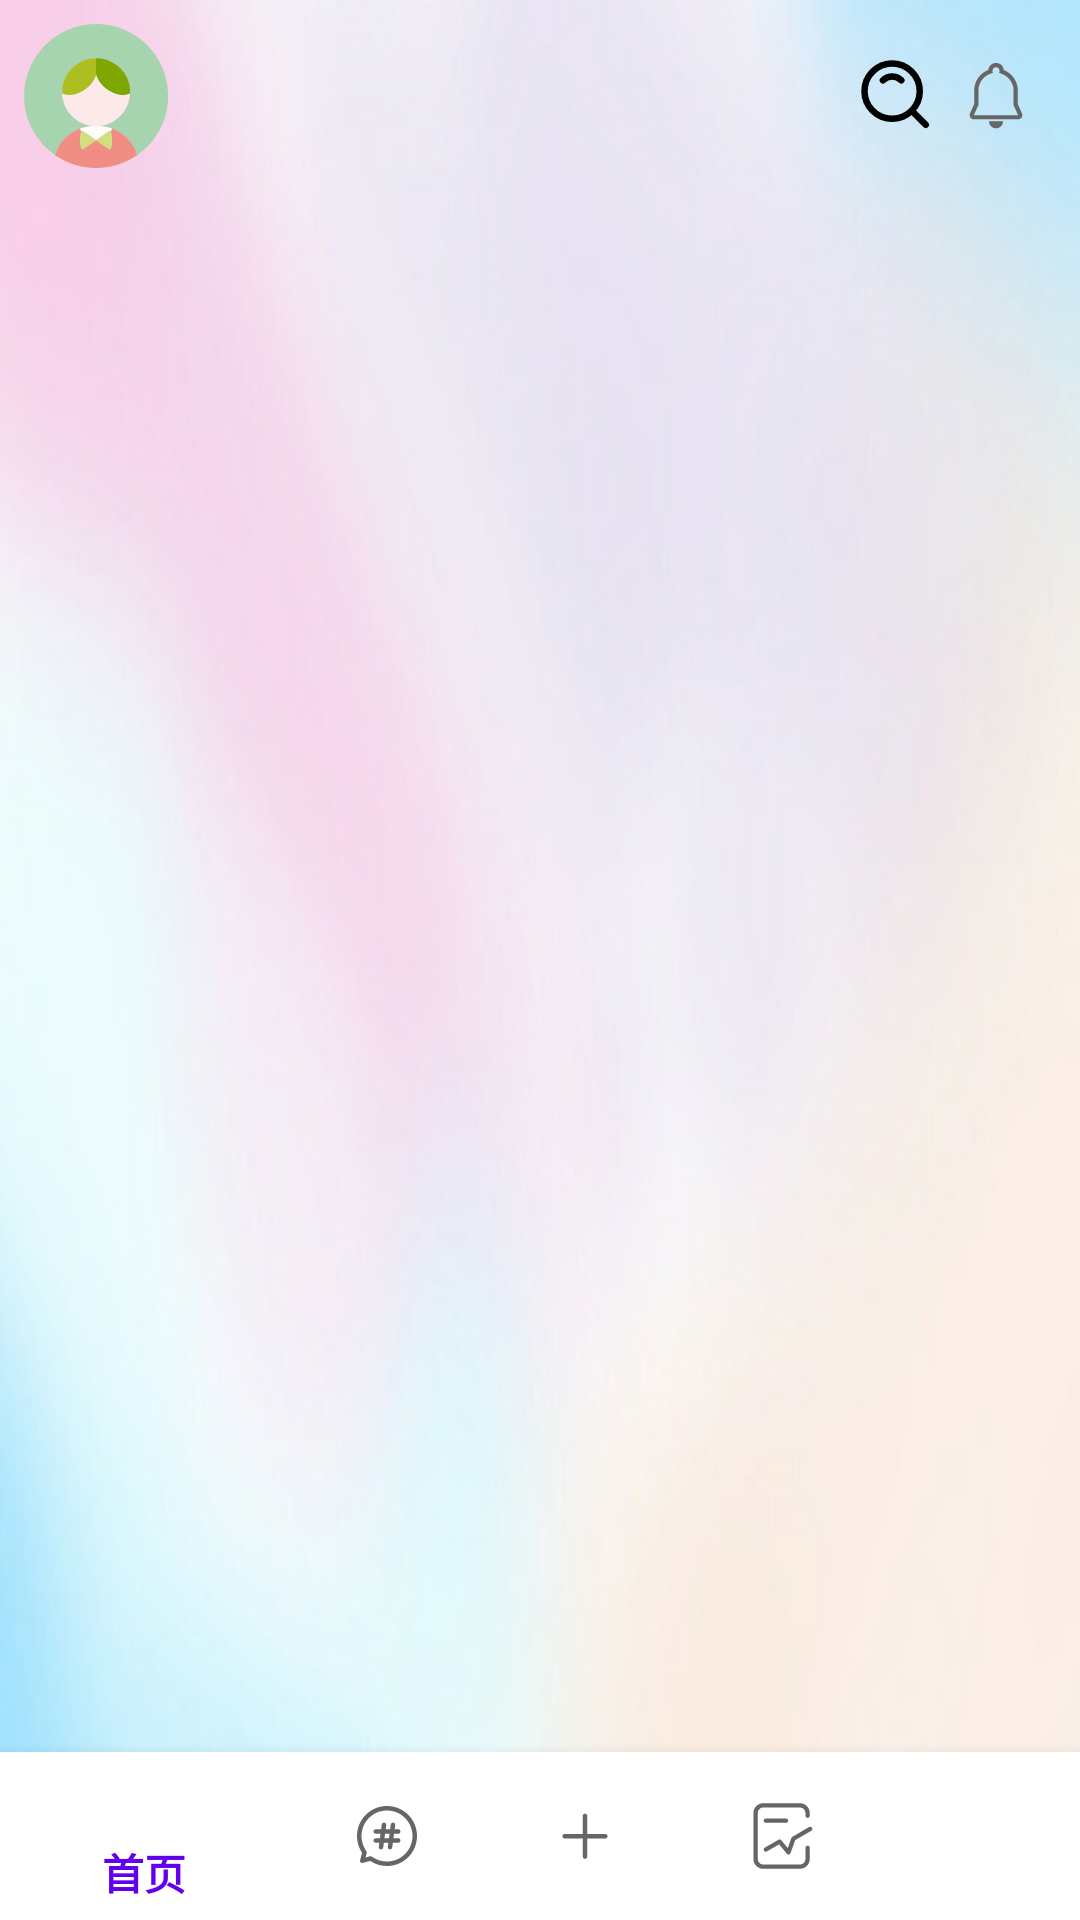

Icons on this 1080×1920 Android screen, each with the point to tap as point (x, y):
alert: point (996, 96)
search: point (895, 94)
